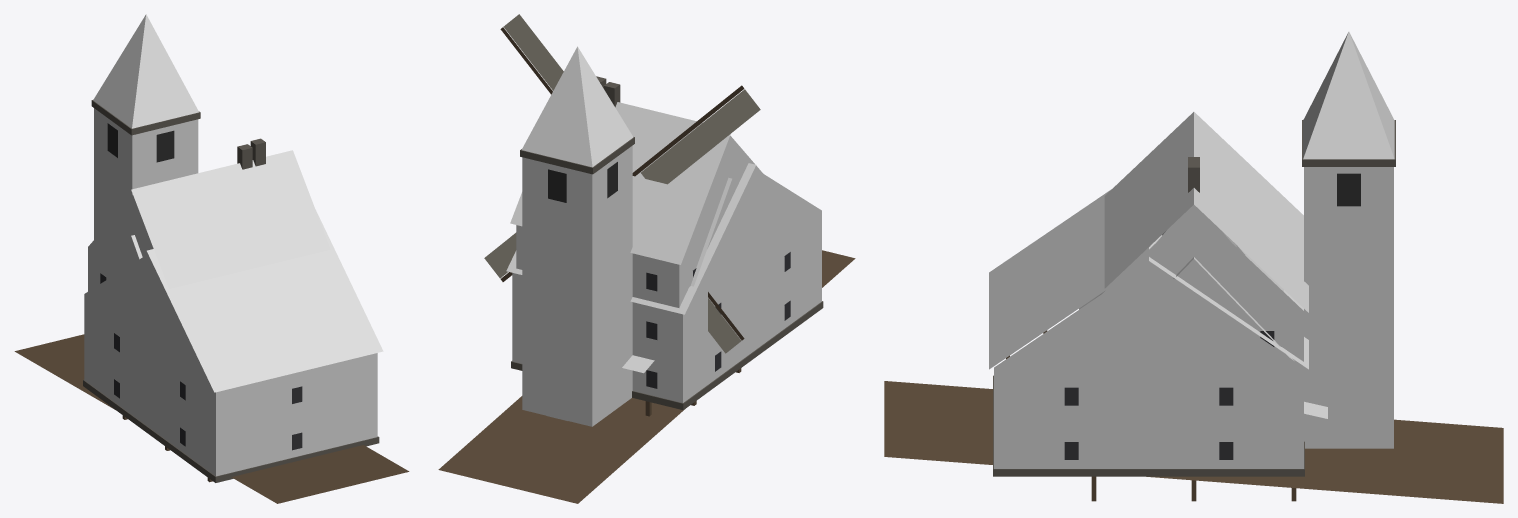
The model's file is rocky.glb.
3 views of the same model, side by side, from view 1: azimuth 30°, elevation 25°; view 2: azimuth 150°, elevation 25°; view 3: azimuth 270°, elevation 25° (orthographic). The views are drawn at different scales.
Visible parts, largest first — view 1: church, merchants-house, shipyard-slip; view 2: church, merchants-house, shipyard-slip, windmill, warehouse; view 3: church, merchants-house, shipyard-slip.
Part boxes in pixels (x1,y1,x2,y2): church: (83, 14, 383, 482); merchants-house: (88, 138, 330, 291); shipyard-slip: (14, 334, 409, 503); church: (506, 46, 823, 426); merchants-house: (510, 76, 763, 406); shipyard-slip: (438, 250, 855, 503); windmill: (484, 14, 760, 353); warehouse: (690, 177, 731, 286); church: (989, 31, 1395, 476); merchants-house: (1079, 112, 1327, 418); shipyard-slip: (884, 330, 1503, 503).
Bounding box in the file's own units: 17.82 × 24.5 × 31.
